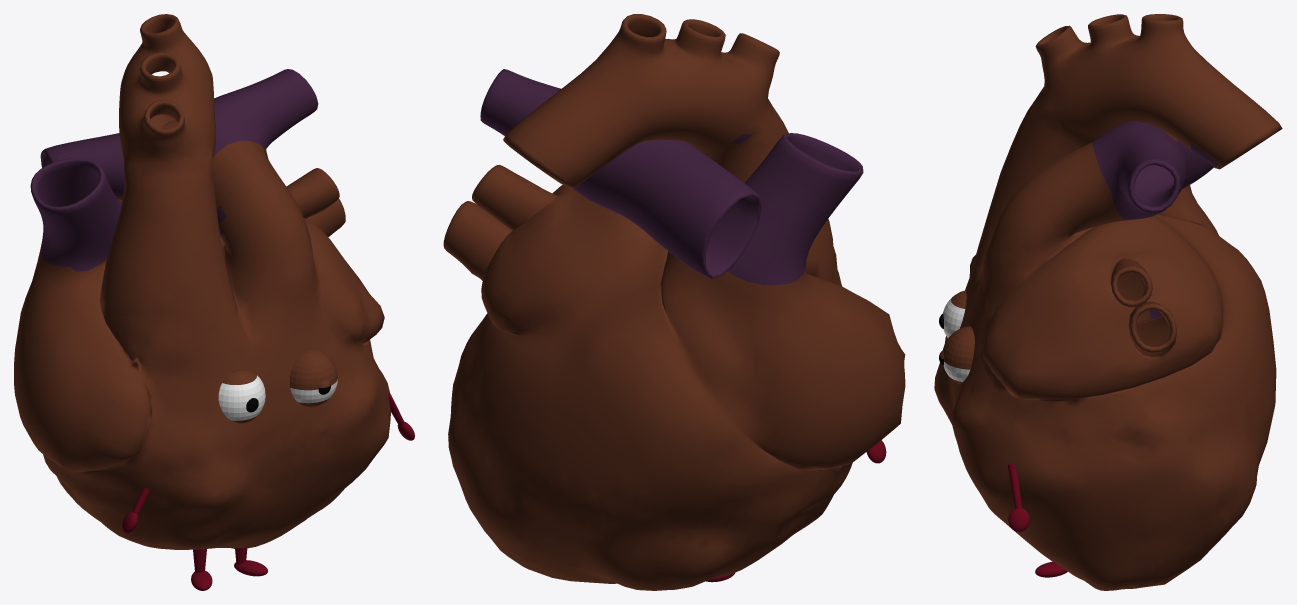
The model's file is DI HEALTHY heart characters.fbx.
3 views of the same model, side by side, from view 1: azimuth 30°, elevation 25°; view 2: azimuth 150°, elevation 25°; view 3: azimuth 270°, elevation 25° (orthographic). The views are drawn at different scales.
Parts seen in each view (by area): view 1: heart obj.001, mata.003, mata.002, paa.000, legs.001; view 2: heart obj.001; view 3: heart obj.001, mata.003, mata.002, kamay.002.
Part boxes in pixels (<box>): heart obj.001: <box>14,14,390,549</box>; mata.003: <box>289,349,337,407</box>; mata.002: <box>218,370,265,423</box>; paa.000: <box>191,549,212,590</box>; legs.001: <box>234,547,267,576</box>; heart obj.001: <box>443,14,905,590</box>; heart obj.001: <box>934,14,1282,590</box>; mata.003: <box>939,326,974,384</box>; mata.002: <box>939,290,966,337</box>; kamay.002: <box>1007,463,1029,531</box>.
Bounding box in the file's own units: 1369 × 1941 × 1128.
